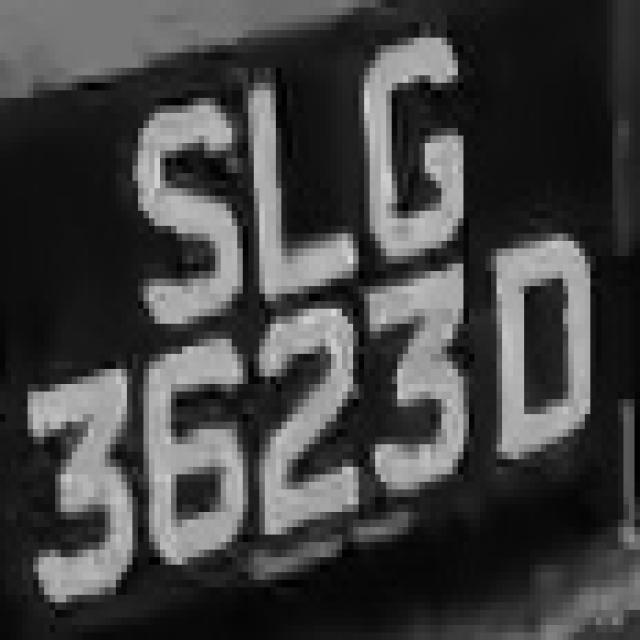2: (232, 301, 358, 542)
3: (348, 233, 480, 512), (17, 354, 132, 632)
6: (127, 316, 248, 588)
D: (480, 226, 601, 459)
G: (353, 30, 486, 271)
L: (232, 68, 353, 308)
S: (116, 83, 237, 331)
